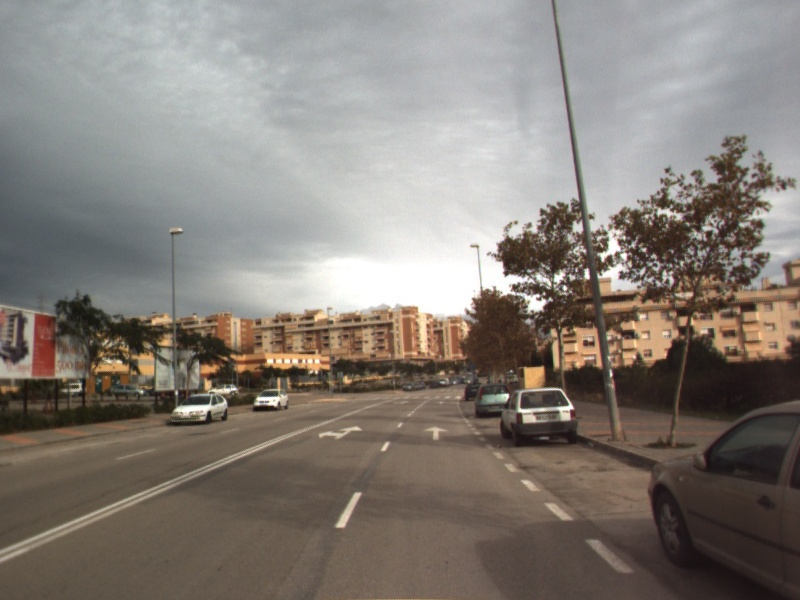STRAIGHT: (422, 424, 450, 442)
STRAIGHT_LEFT: (316, 423, 364, 441)
